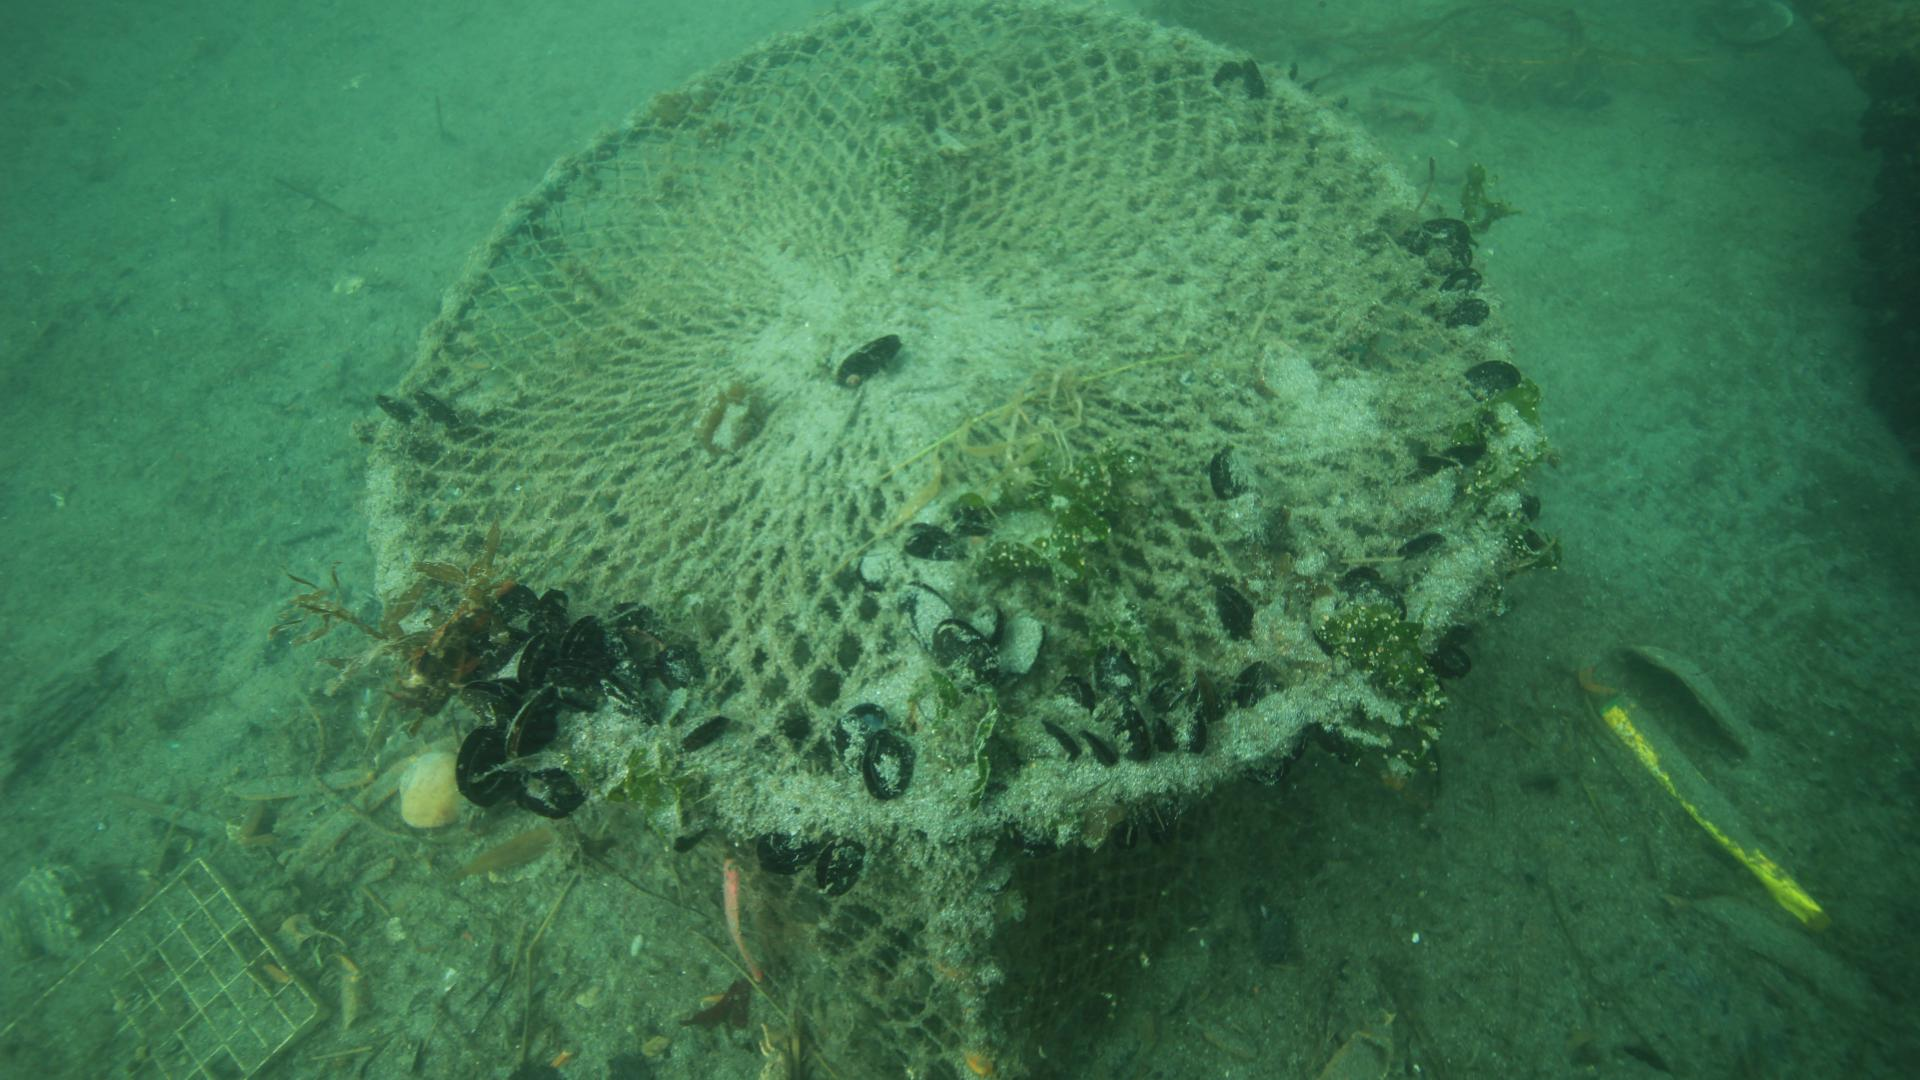circular fish trap: (367, 0, 1528, 1080)
